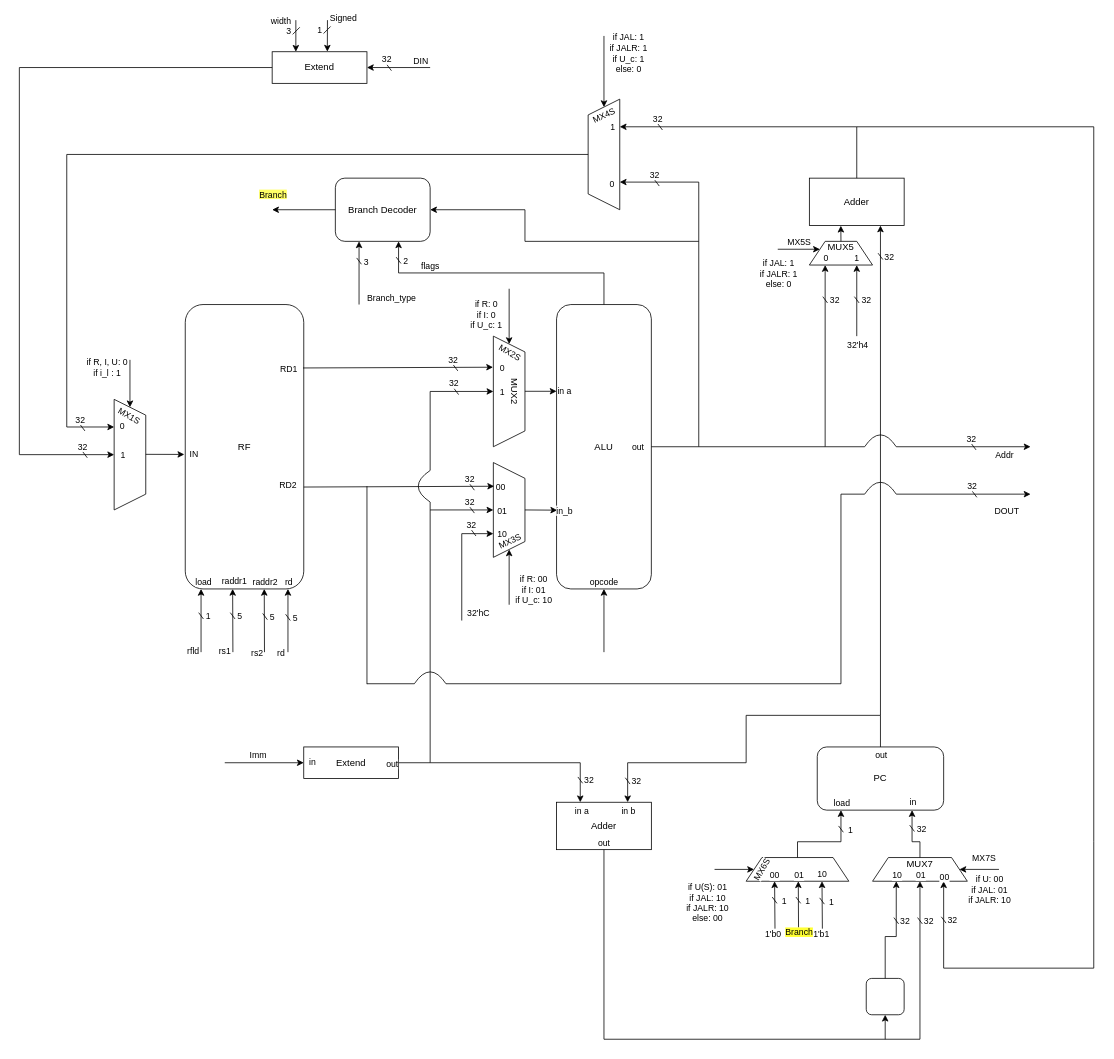
Image size: 1114x1059. Some labels were removed from this diagram. The shapes that lost their labels are listed below. From the top down, each one's centre as x and y in pixels, then its label:
the point at 603,154: MUX4
the point at 129,454: MUX1
the point at 509,509: MUX3
the point at 797,869: MUX6
the point at 884,996: & ~0b11
